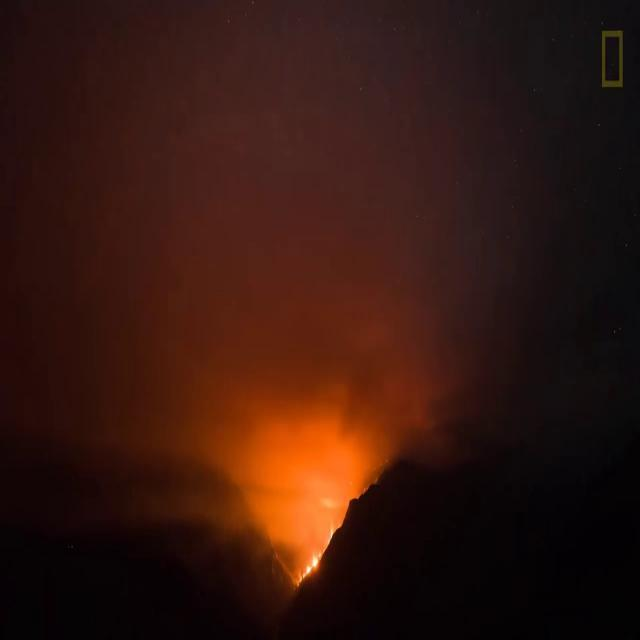Fire: (298, 524, 336, 585)
